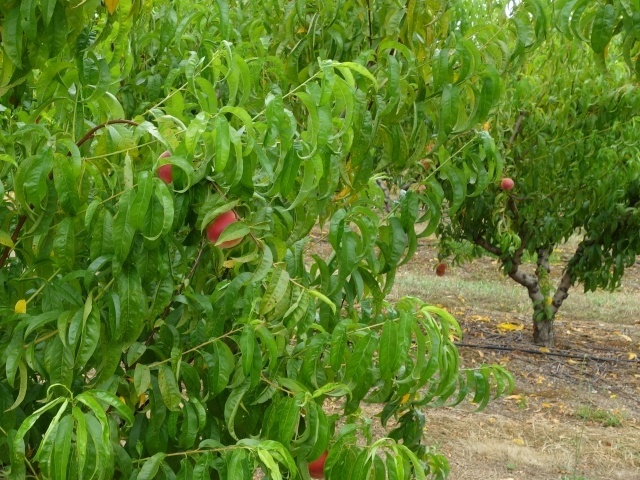peach: (204, 203, 249, 250), (304, 442, 335, 479), (155, 148, 181, 186)
